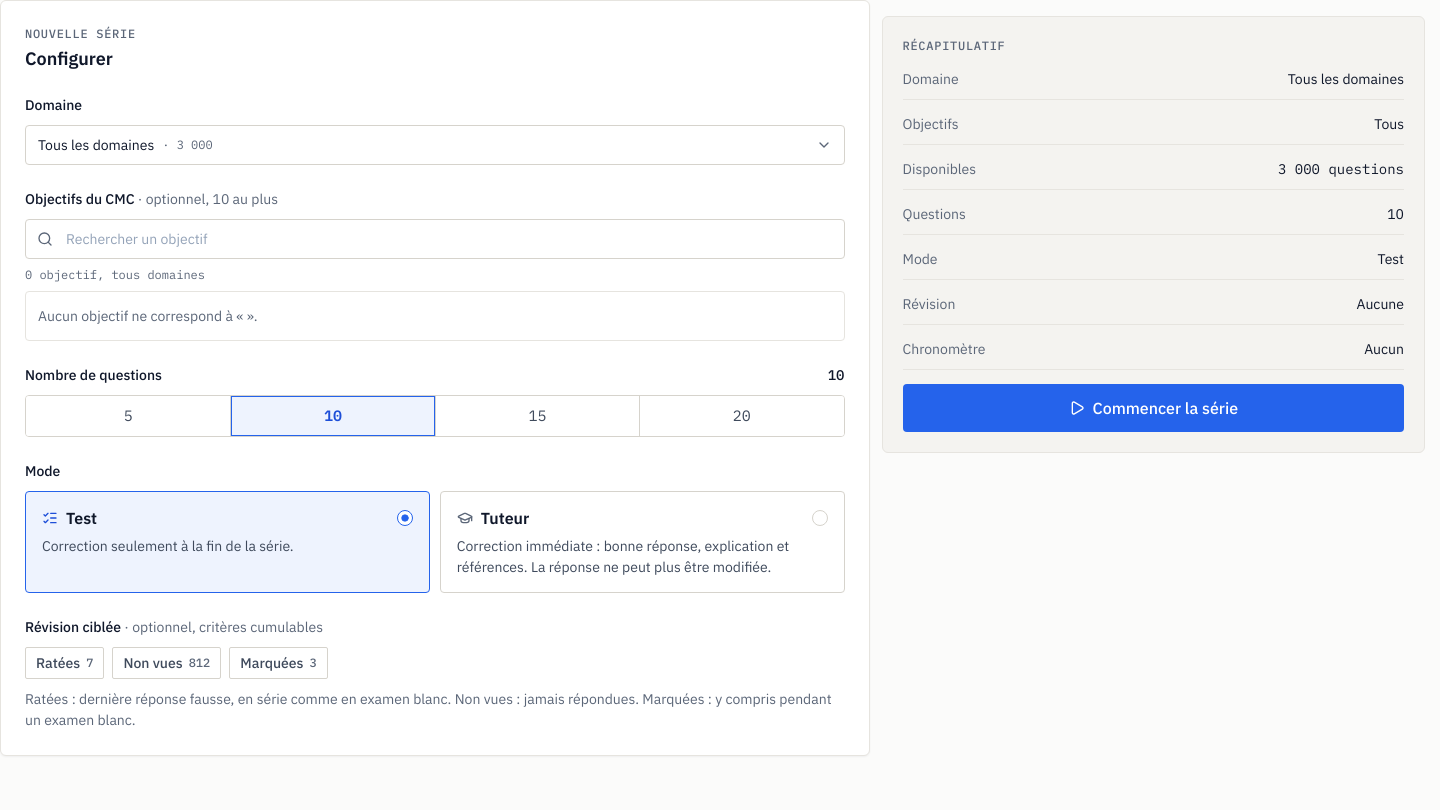
Test: TrainingConfigForm — révision ciblée › un refus du serveur s'affiche sous le bouton, jamais en toast
Expected: the text "3 000 questions" is shown, [1278,159,1404,179]
What coordinates should you click on to do the following:
click the button with test id "btn-start-training"
I would click on:
 (1153, 408)
Its box is [902,384,1404,432].
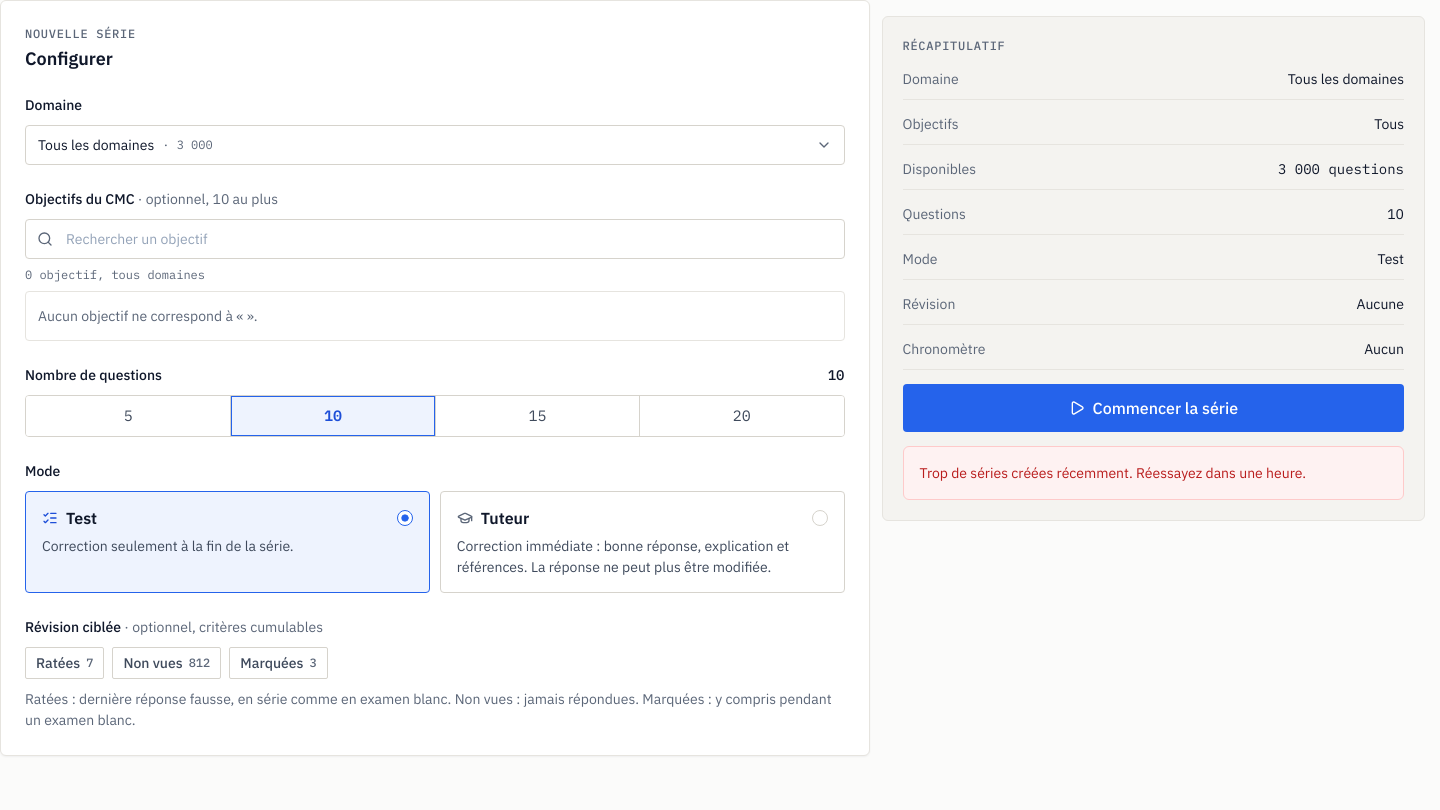
Now the message with test id "training-refusal" reads "Trop de séries créées récemment. Réessayez dans une heure.", box [920,464,1306,482]
# Changer un réglage retire l'alerte.
What coordinates should you click on to do the following:
click the button with test id "revision-failed"
I would click on:
 (65, 663)
Its box is [25,647,104,679].
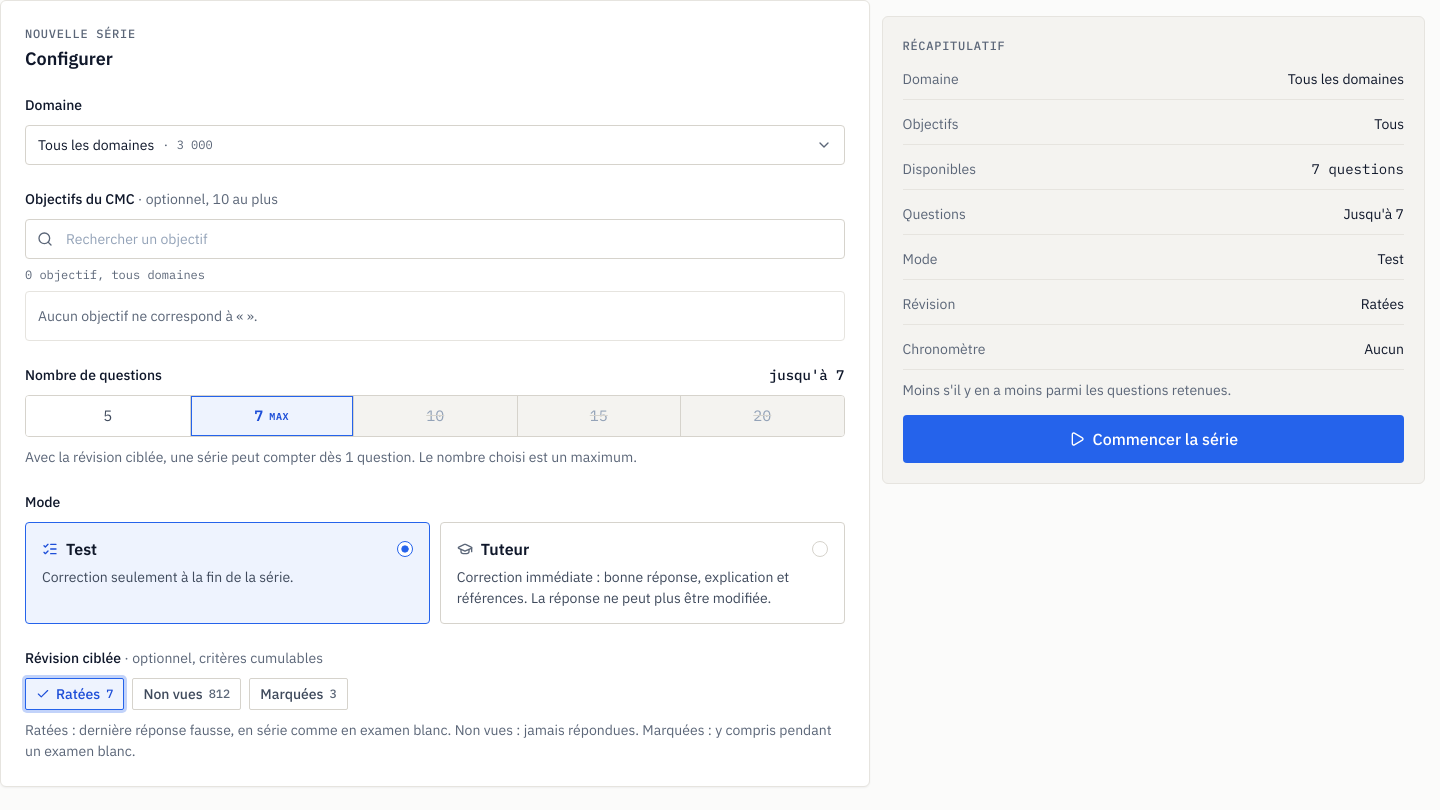
Now the message with test id "training-refusal" is gone
